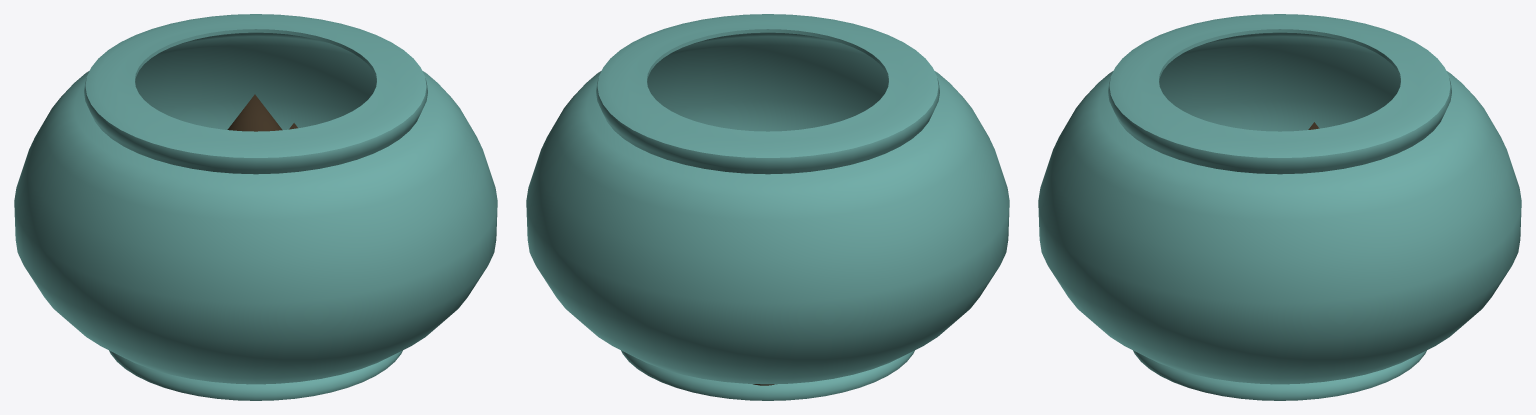
The model's file is 4sketch.obj.
The picture shows the model from 3 angles, left to right: view 1: azimuth 30°, elevation 25°; view 2: azimuth 150°, elevation 25°; view 3: azimuth 270°, elevation 25°; orthographic projection.
Parts seen in each view (by area): view 1: bowl, polySurface1; view 2: bowl; view 3: bowl.
Boxes of the visible parts, x1,y1,x2,y2 form: bowl: (14, 14, 497, 400); polySurface1: (227, 94, 297, 131); bowl: (526, 14, 1009, 400); bowl: (1038, 14, 1521, 400).
Size of the model in its own units: 34.12 by 20.38 by 34.12.
